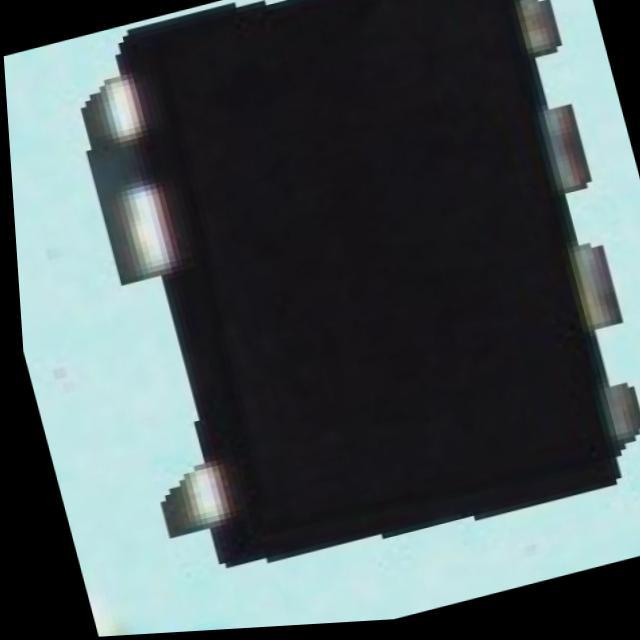IC: (68, 0, 640, 613)
